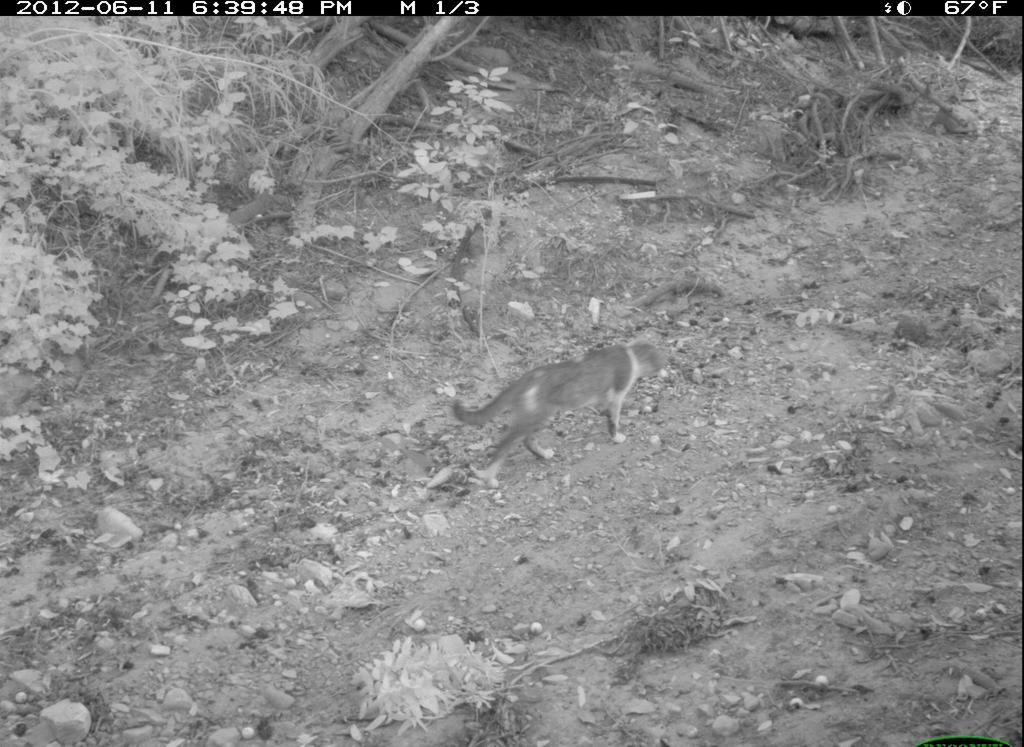cat: (428, 319, 706, 496)
